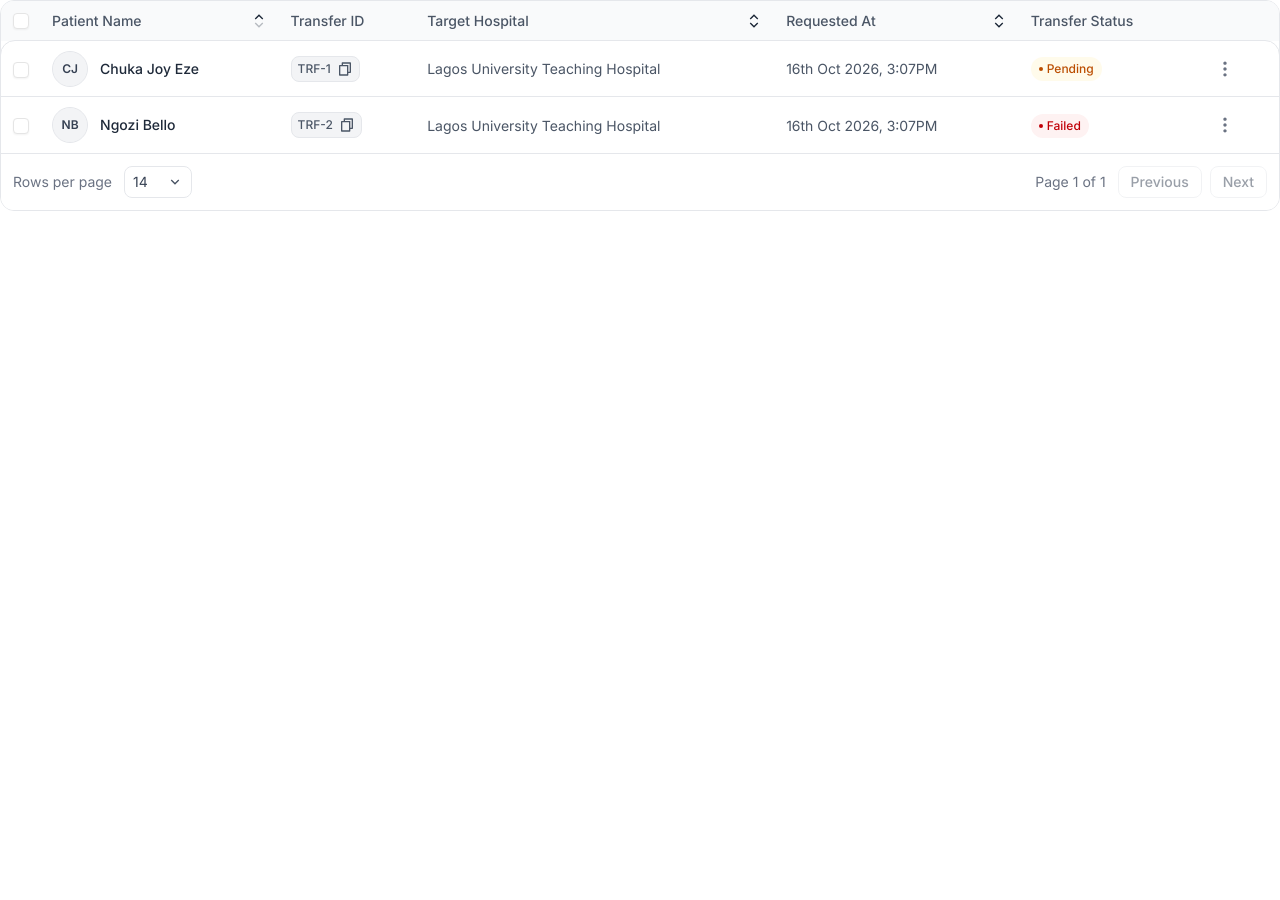
Transfer recovery from the row menu › retrying a failed delivery shows the access code was sent and refreshes the activity
Click the 2nd button named "Open transfer actions" at (1225, 125), box [1207, 107, 1243, 143]
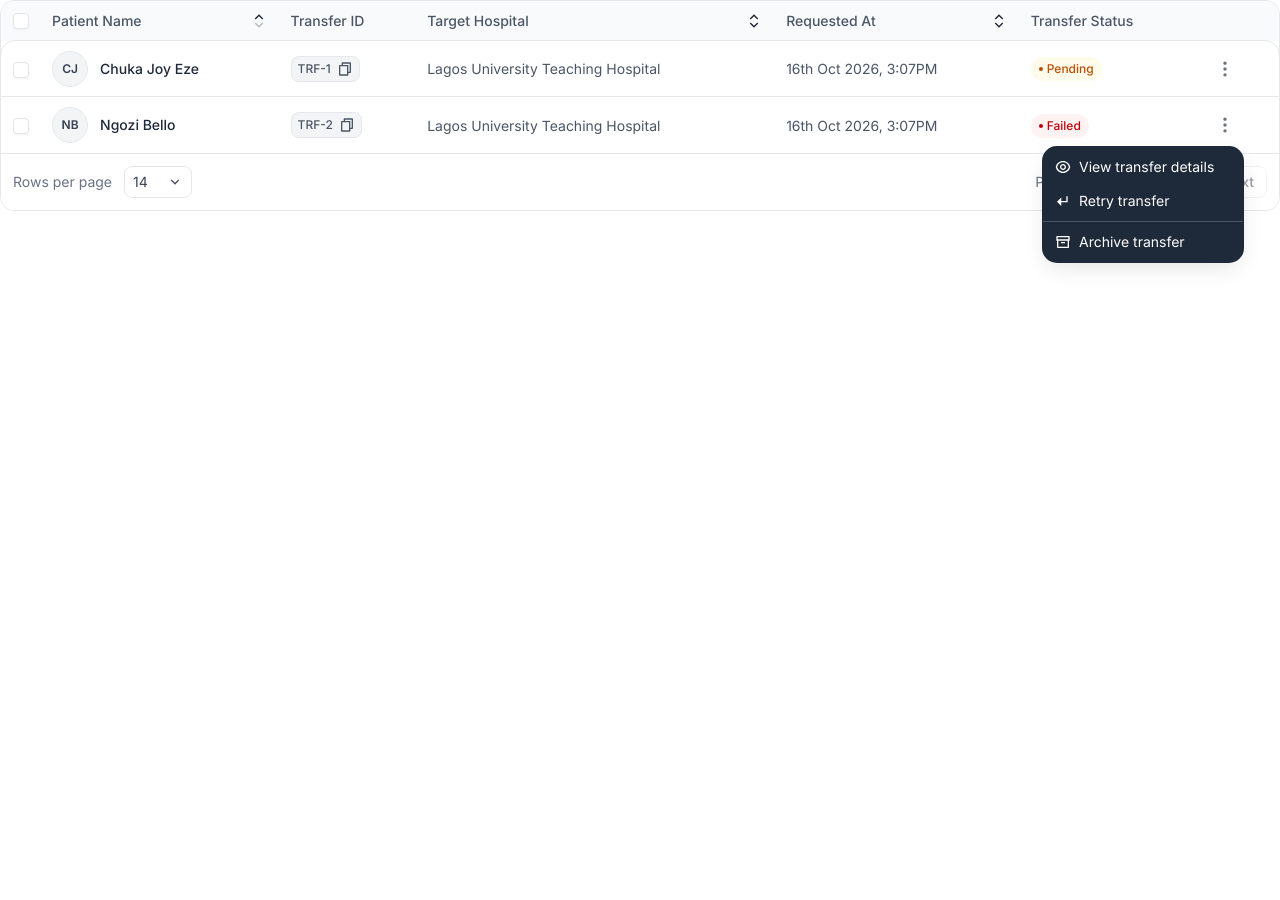
Click the menu item "Retry transfer" at (1112, 200), box [1055, 192, 1169, 209]
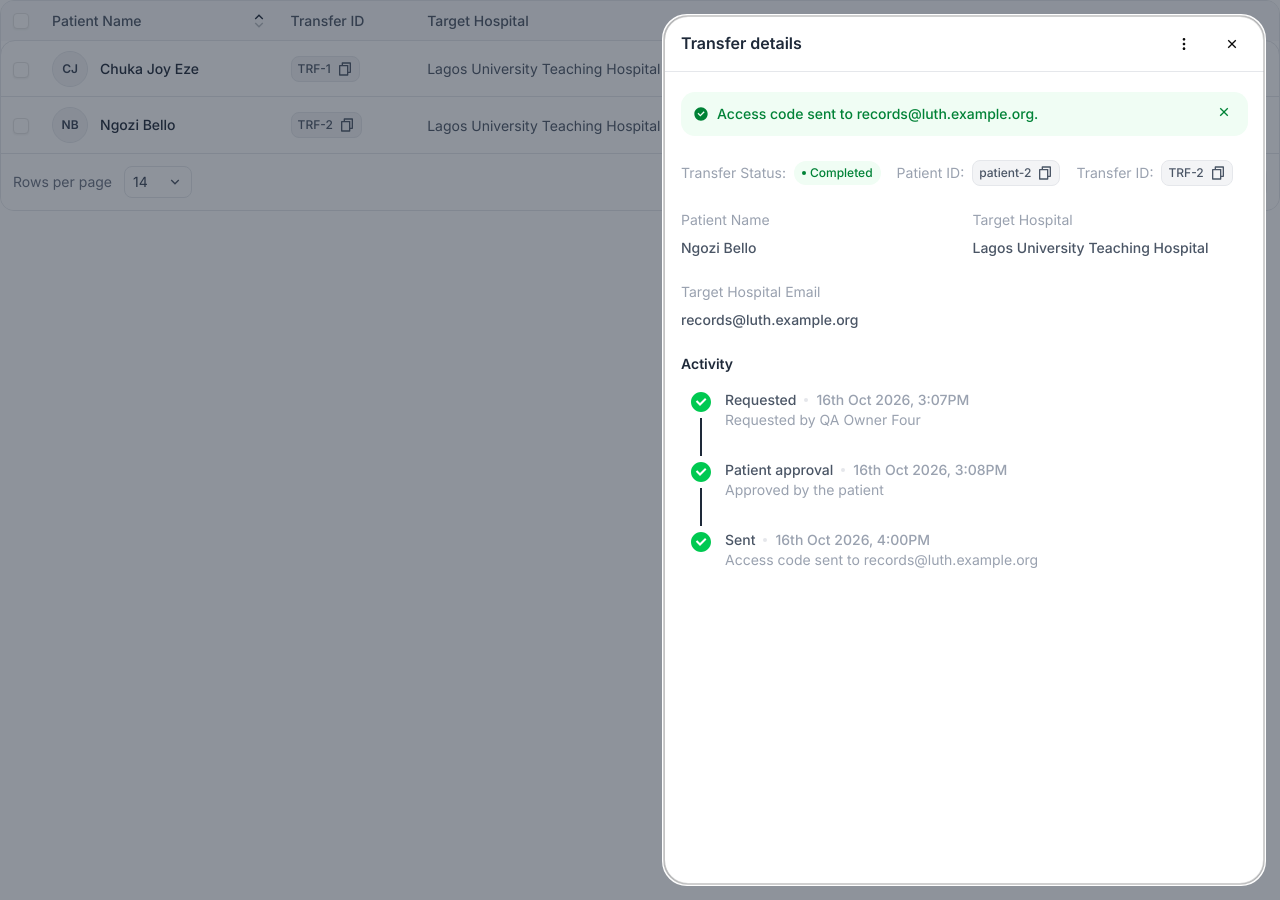
Now the message reads "Access code sent to records@luth.example.org.", box [717, 105, 1038, 122]
Now the text "Access code sent to records@luth.example.org" is shown, box [725, 551, 1038, 568]
